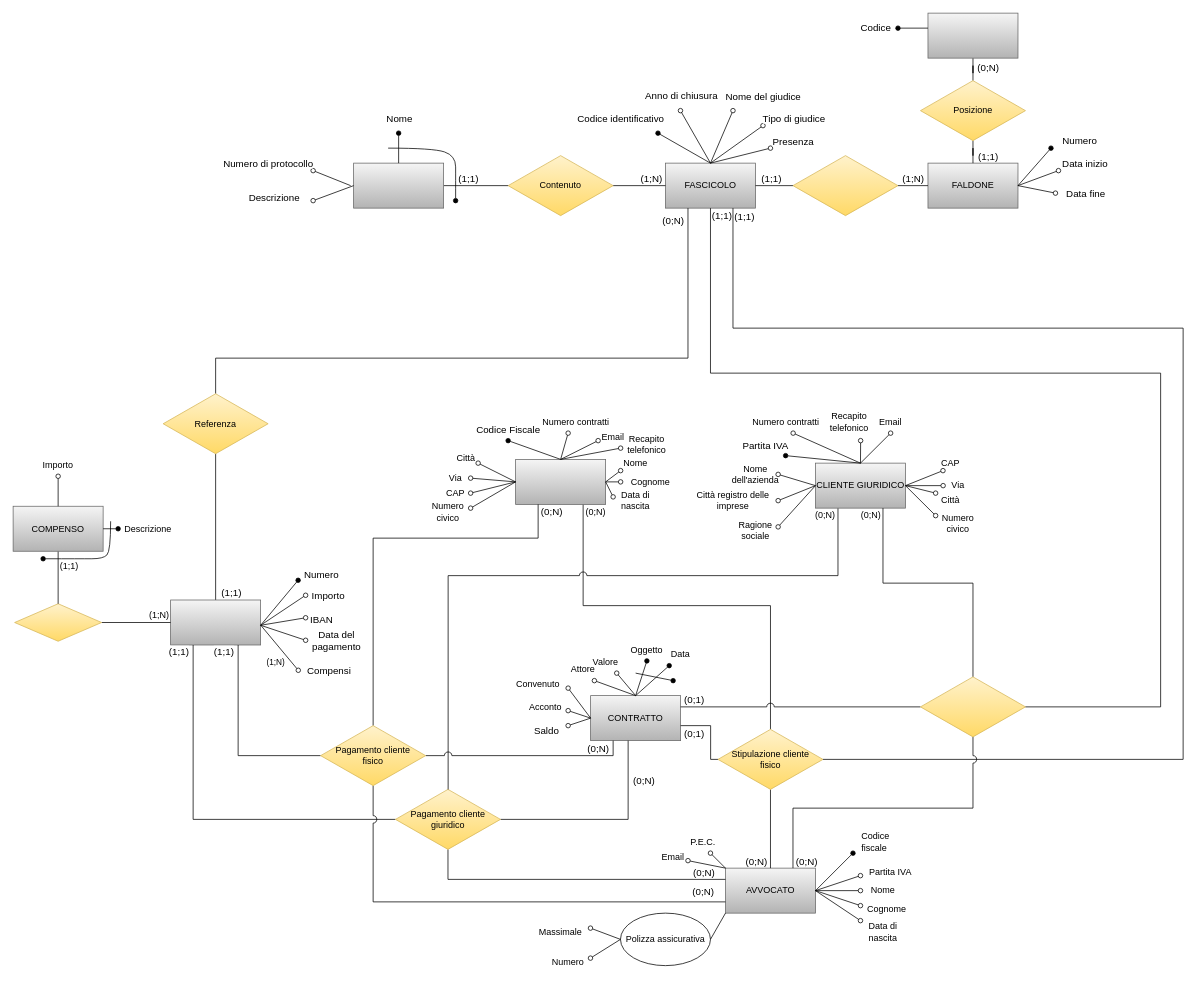
This 1197x986 diagram has some shape labels left out. Here are the shapes that lost their labels. From the top down, the centre of each, then its label:
At point 972,35: "SCAFFALE".
At point 398,185: "DOCUMENTO".
At point 845,185: "Inserimento".
At point 560,481: "CLIENTE FISICO".
At point 58,622: "Elenco compensi".
At point 215,622: "FATTURA".
At point 972,706: "Stipulazione cliente giuridico".
